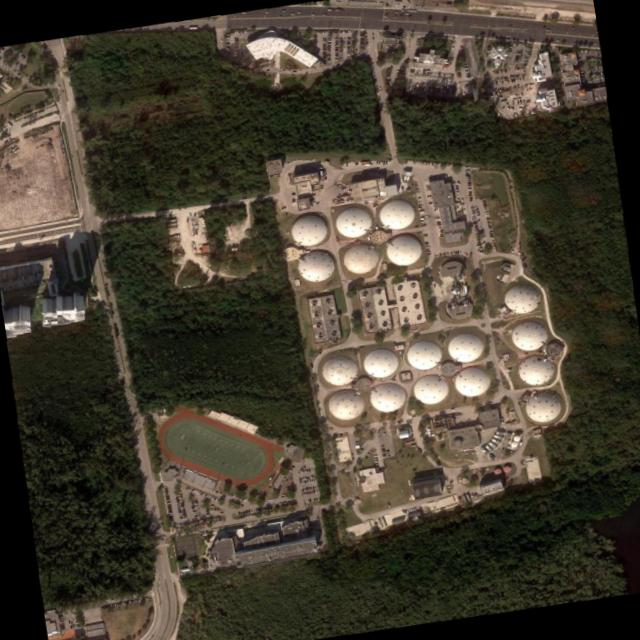storage-tank: (373, 193, 419, 235), (291, 246, 336, 288), (379, 232, 426, 272), (285, 211, 330, 252), (519, 389, 566, 428), (499, 279, 543, 320), (514, 353, 559, 392), (321, 387, 366, 426), (338, 240, 380, 281), (331, 203, 374, 243), (450, 364, 494, 403), (364, 379, 408, 418), (357, 345, 400, 384), (316, 352, 359, 390), (507, 319, 549, 356), (442, 331, 484, 368), (401, 338, 443, 375), (410, 373, 450, 409)
